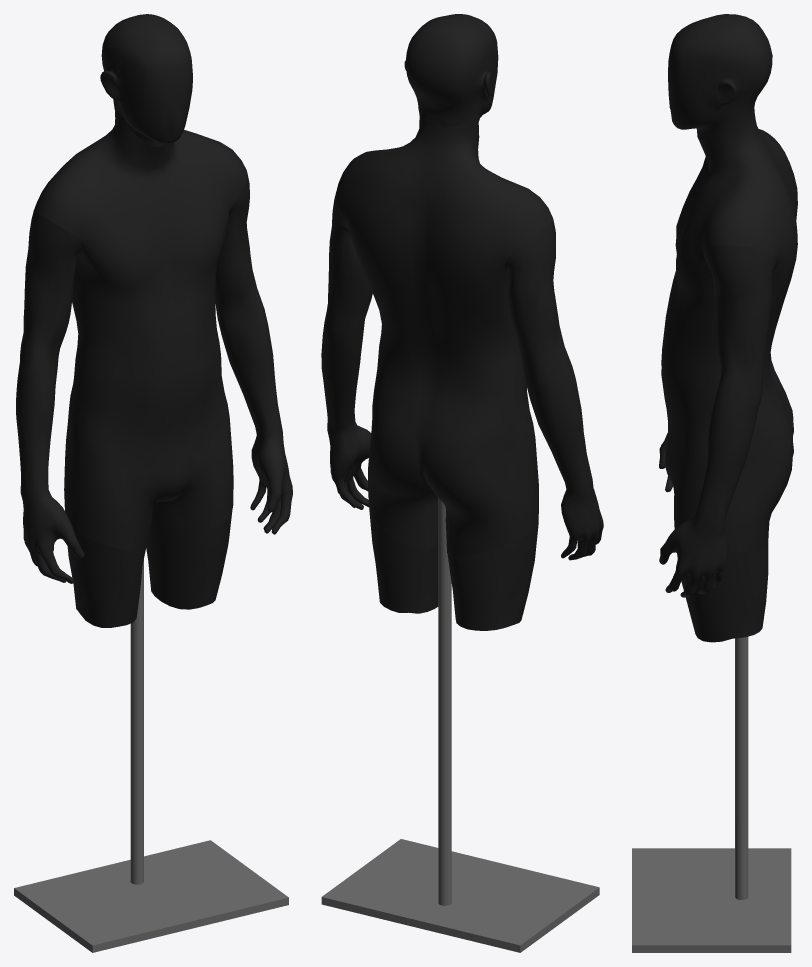
The model's file is Manikin 2.fbx.
3 views of the same model, side by side, from view 1: azimuth 30°, elevation 25°; view 2: azimuth 150°, elevation 25°; view 3: azimuth 270°, elevation 25° (orthographic).
Visible parts, largest first — view 1: manikin 2; view 2: manikin 2; view 3: manikin 2.
Part boxes in pixels (box(x1,y1,x2,y2)): manikin 2: box(14, 14, 292, 952); manikin 2: box(321, 14, 603, 952); manikin 2: box(632, 14, 797, 952).
Bounding box in the file's own units: 58.88 × 190 × 32.19.
2 materials, 1 textured.
